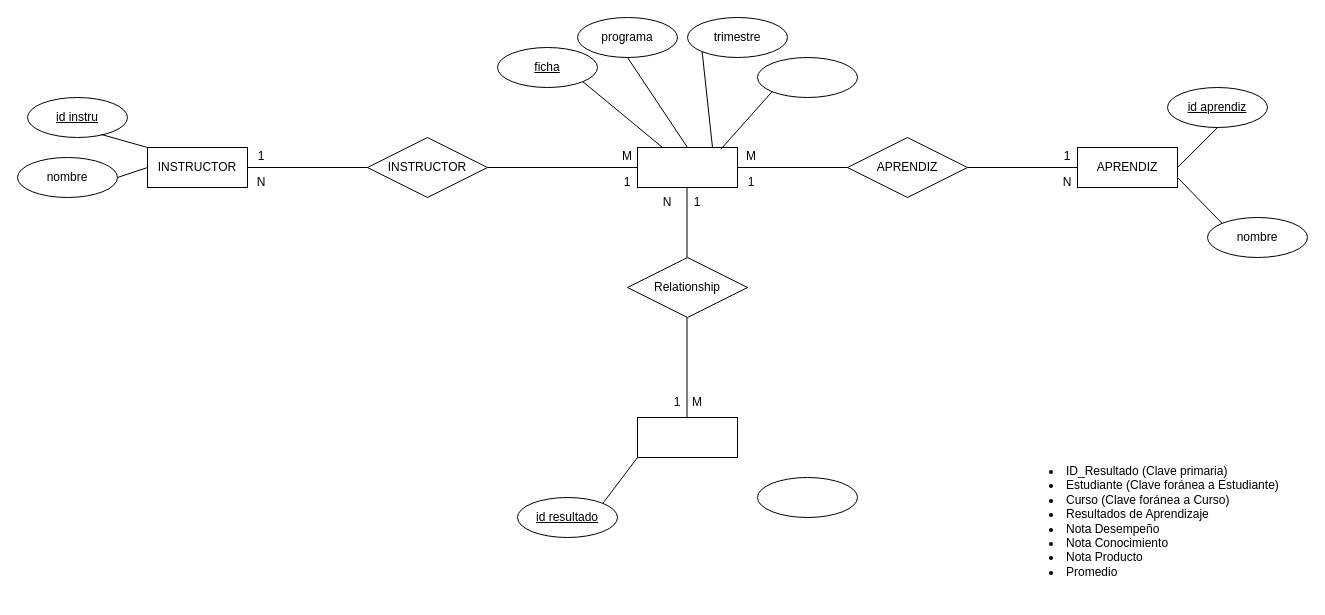
Image size: 1325x615. Some labels were removed from this diagram. The centre of each missing label's shape, as x and y in pixels:
"aprendizajes" belongs at point (807, 77).
"CURSO" belongs at point (687, 167).
"promedio" belongs at point (807, 497).
"RESULTADO" belongs at point (687, 437).
